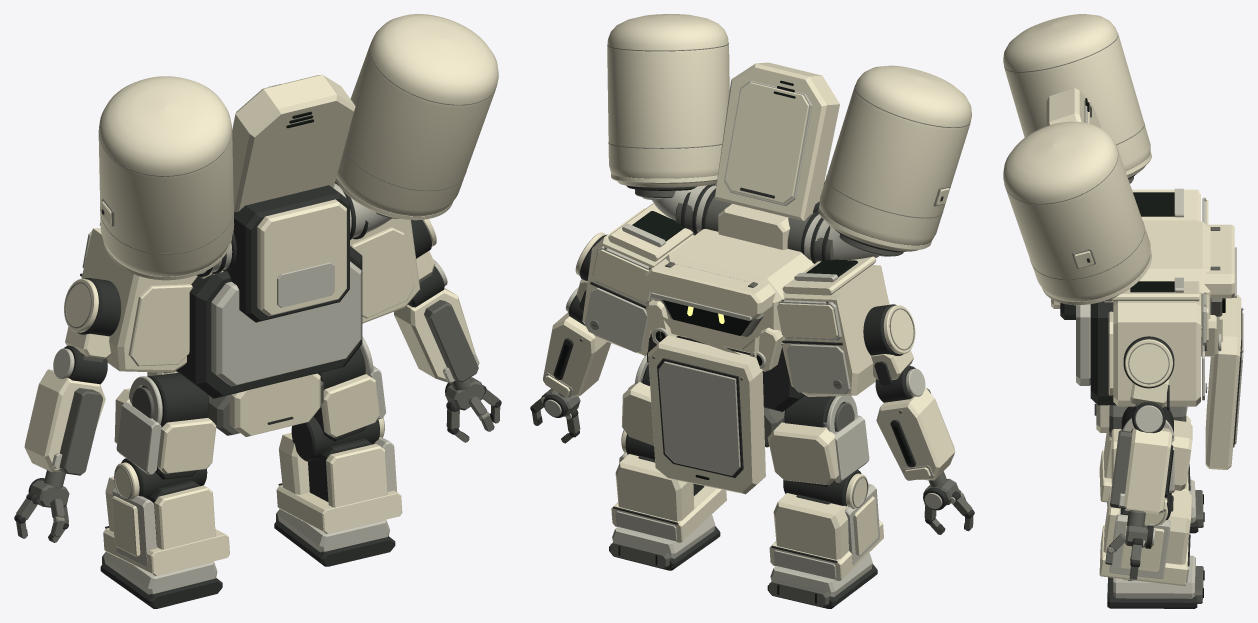
Rendered from reference-mech.glb.
3 views of the same model, side by side, from view 1: azimuth 30°, elevation 25°; view 2: azimuth 150°, elevation 25°; view 3: azimuth 270°, elevation 25° (orthographic). The views are drawn at different scales.
Parts seen in each view (by area): view 1: Pod_outer_shell2, Pod_outer_shell, Central_housing, Back_armor, Rear_mount_shroud, Inner_chassis, Backpack_support, Rear_shoulder_plate, Broad_shoulder_shell, Rear_pelvis_cover, Rear_shoulder_plate2, Forearm_armor (+34 smaller); view 2: Pod_outer_shell, Pod_outer_shell2, Inset_face, Central_front_face, Shield_shell, Central_housing, Upper_hull, Broad_shoulder_shell, Heavy_brow, Forearm_armor, Shin_front, Thigh_front (+43 smaller); view 3: Pod_outer_shell2, Pod_outer_shell, Broad_shoulder_shell2, Shield_shell, Upper_hull, Forearm_armor2, Inner_chassis, Heavy_brow, Shoulder_cap2, Foot_armor2, Shin_front2, Back_armor (+23 smaller).
Boxes of the visible parts, x1=… form: Pod_outer_shell2: x1=336, y1=14, x2=498, y2=218; Pod_outer_shell: x1=98, y1=76, x2=234, y2=276; Central_housing: x1=232, y1=74, x2=355, y2=212; Back_armor: x1=211, y1=261, x2=361, y2=386; Rear_mount_shroud: x1=257, y1=199, x2=346, y2=316; Inner_chassis: x1=176, y1=246, x2=362, y2=398; Backpack_support: x1=227, y1=185, x2=349, y2=322; Rear_shoulder_plate: x1=128, y1=284, x2=192, y2=366; Broad_shoulder_shell: x1=81, y1=228, x2=197, y2=372; Rear_pelvis_cover: x1=229, y1=373, x2=320, y2=436; Rear_shoulder_plate2: x1=351, y1=227, x2=414, y2=318; Forearm_armor: x1=24, y1=369, x2=105, y2=472; Pod_outer_shell: x1=819, y1=65, x2=971, y2=251; Pod_outer_shell2: x1=607, y1=14, x2=729, y2=187; Inset_face: x1=658, y1=361, x2=740, y2=475; Central_front_face: x1=725, y1=82, x2=809, y2=203; Shield_shell: x1=648, y1=335, x2=765, y2=494; Central_housing: x1=714, y1=62, x2=839, y2=220; Upper_hull: x1=652, y1=229, x2=813, y2=353; Broad_shoulder_shell: x1=782, y1=265, x2=889, y2=396; Heavy_brow: x1=644, y1=259, x2=775, y2=318; Forearm_armor: x1=876, y1=387, x2=955, y2=480; Shin_front: x1=773, y1=493, x2=848, y2=559; Thigh_front: x1=767, y1=422, x2=838, y2=485; Pod_outer_shell2: x1=1003, y1=121, x2=1150, y2=301; Pod_outer_shell: x1=1003, y1=14, x2=1150, y2=178; Broad_shoulder_shell2: x1=1113, y1=291, x2=1200, y2=406; Shield_shell: x1=1205, y1=294, x2=1241, y2=469; Upper_hull: x1=1104, y1=221, x2=1210, y2=337; Forearm_armor2: x1=1123, y1=427, x2=1172, y2=514; Inner_chassis: x1=1090, y1=301, x2=1116, y2=405; Heavy_brow: x1=1204, y1=224, x2=1234, y2=298; Shoulder_cap2: x1=1125, y1=339, x2=1172, y2=387; Foot_armor2: x1=1113, y1=555, x2=1195, y2=598; Shin_front2: x1=1165, y1=490, x2=1191, y2=564; Back_armor: x1=1076, y1=304, x2=1090, y2=385.
Bounding box in the file's own units: 4.26 × 4.54 × 2.06.
